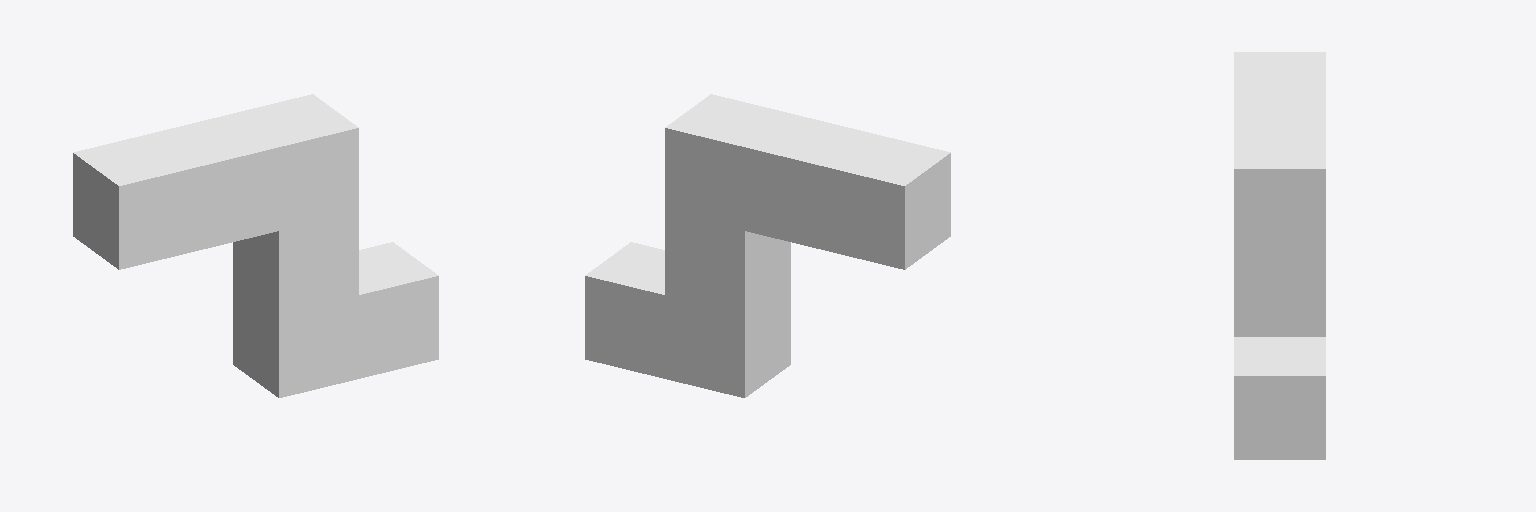
The model's file is Dragon_large-2.obj.
The picture shows the model from 3 angles: view 1: azimuth 30°, elevation 25°; view 2: azimuth 150°, elevation 25°; view 3: azimuth 270°, elevation 25°; orthographic projection.
Parts seen in each view (by area): view 1: object 1; view 2: object 1; view 3: object 1.
Boxes of the visible parts, box(x1,y1,x2,y2) form: object 1: box(73, 94, 438, 397); object 1: box(585, 94, 950, 397); object 1: box(1234, 52, 1325, 459).
Size of the model in its own units: 0.8 by 0.6 by 0.2.